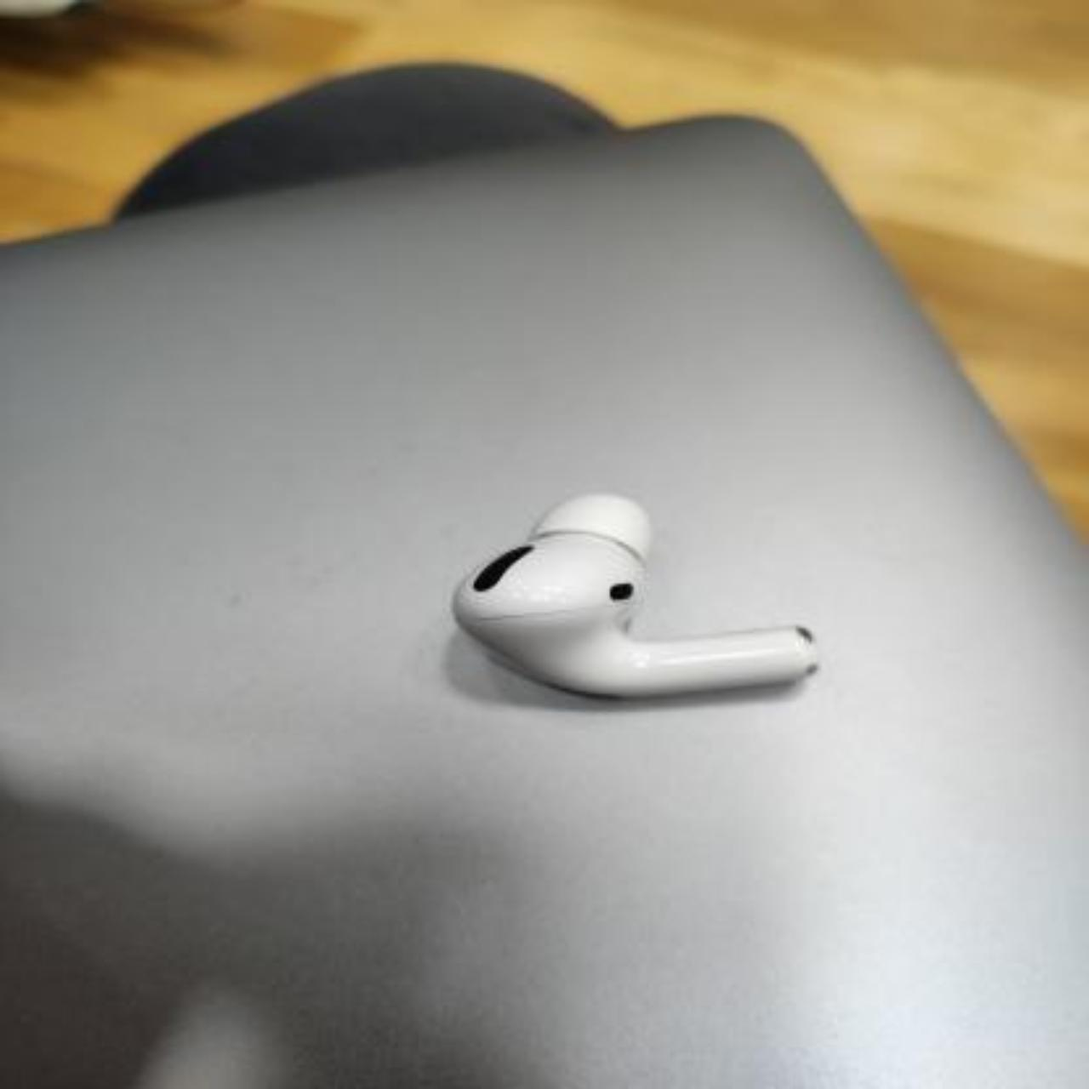Airpods_Units: (447, 453, 836, 746)
